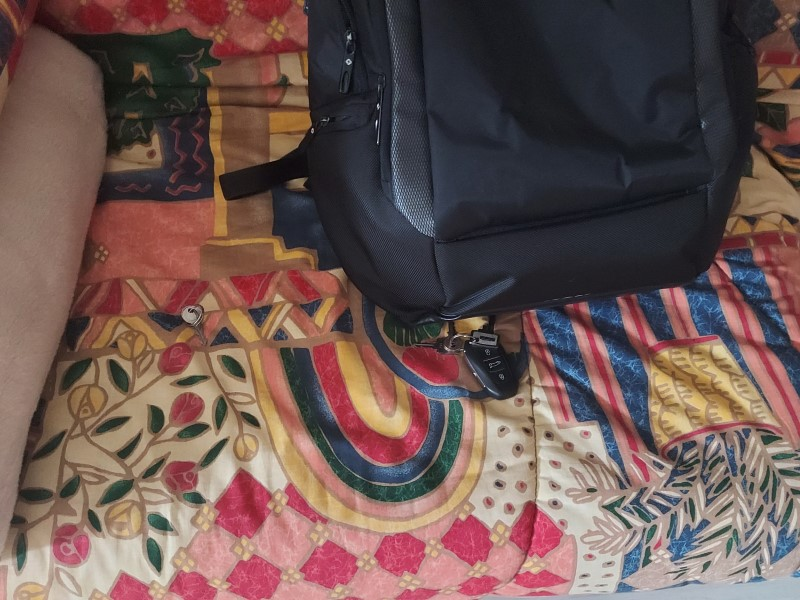carkey: (463, 334, 519, 400)
key: (180, 303, 207, 347), (412, 334, 460, 353)
